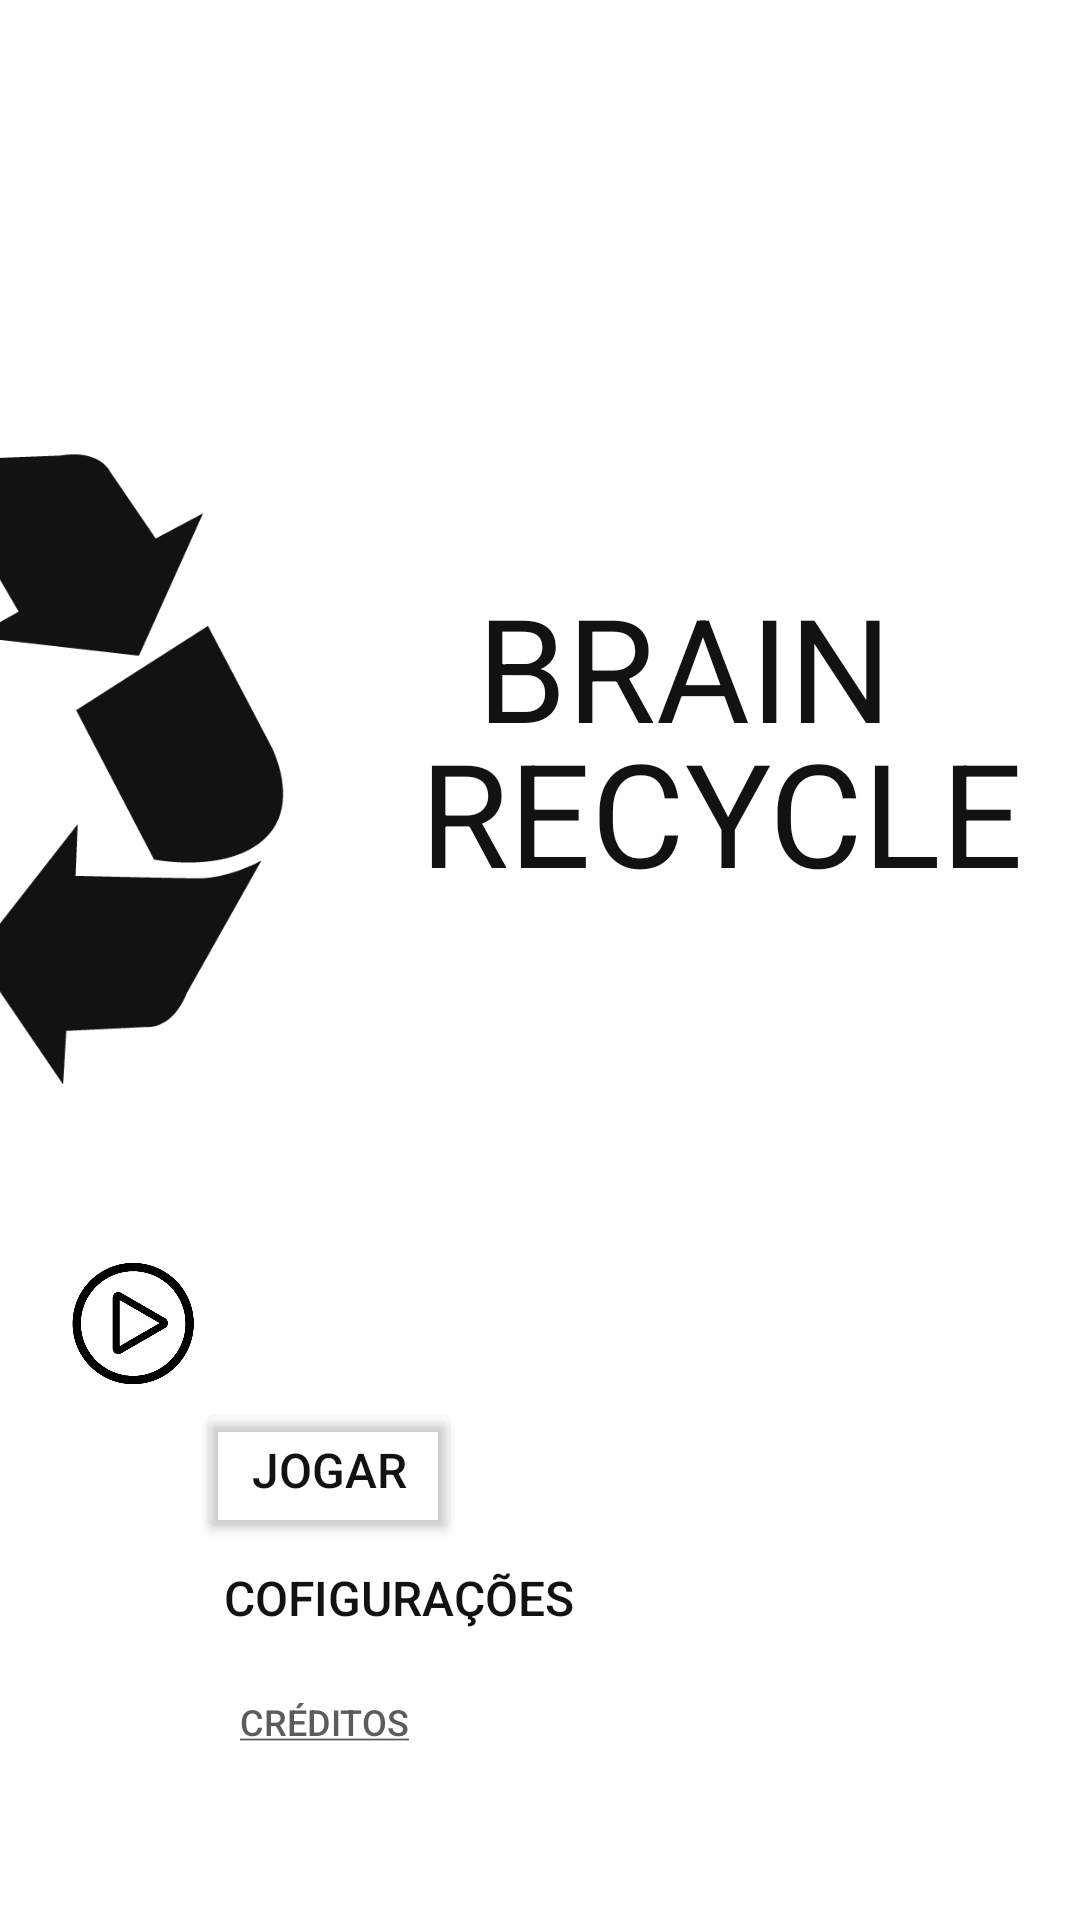

Icon bounding boxes for this 1080×1920 phone screenshot, format (x1, y1, x2, y2):
resume: (72, 1263, 194, 1384)
